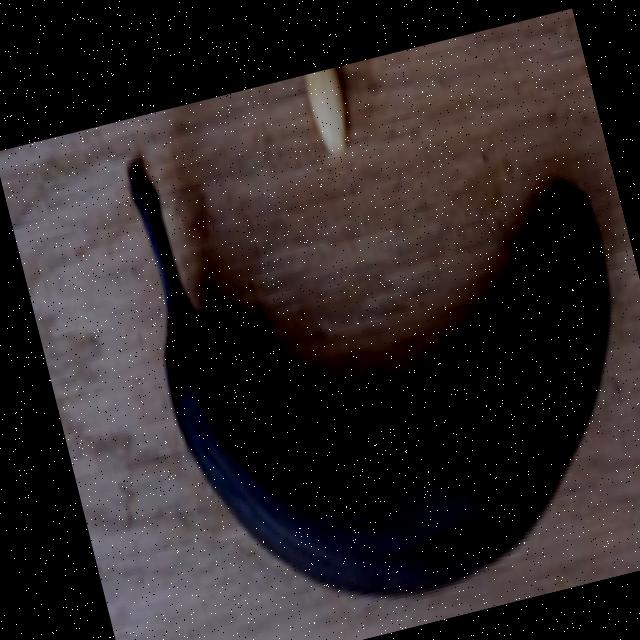Rotten: (97, 58, 640, 640)
